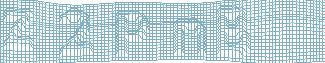2: (58, 8, 96, 56)
B: (214, 3, 251, 59)
P: (113, 9, 151, 59)
Z: (1, 7, 36, 53)
n: (172, 18, 208, 57)
